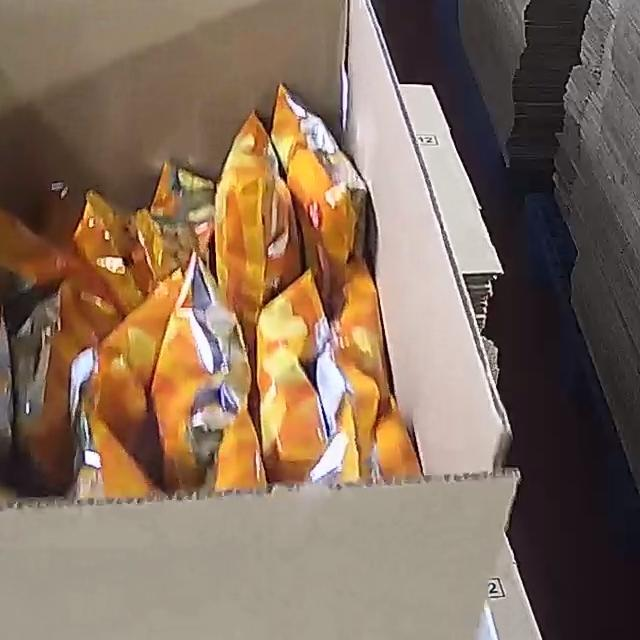cheese: (0, 82, 423, 503)
